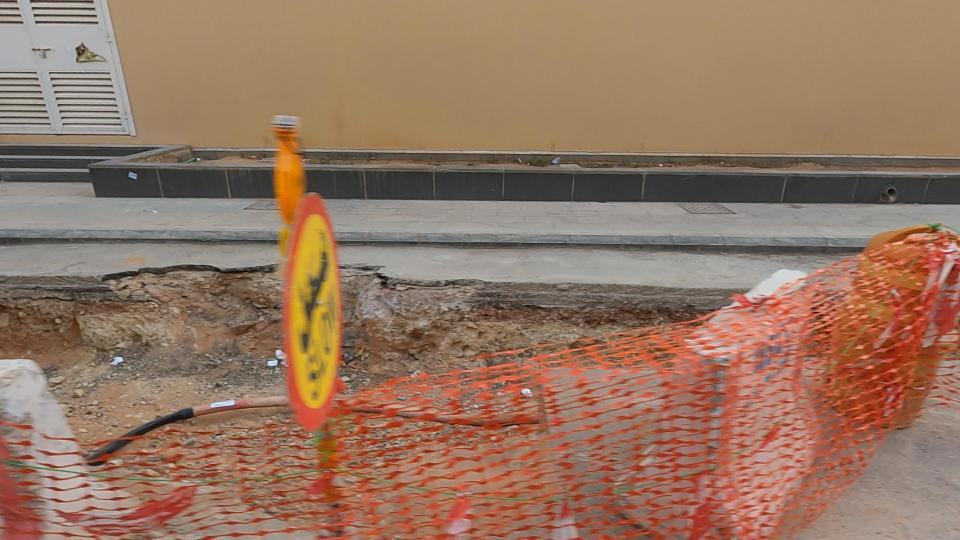CONSTRUCTION_ROAD: (265, 99, 960, 540), (0, 68, 642, 540)
